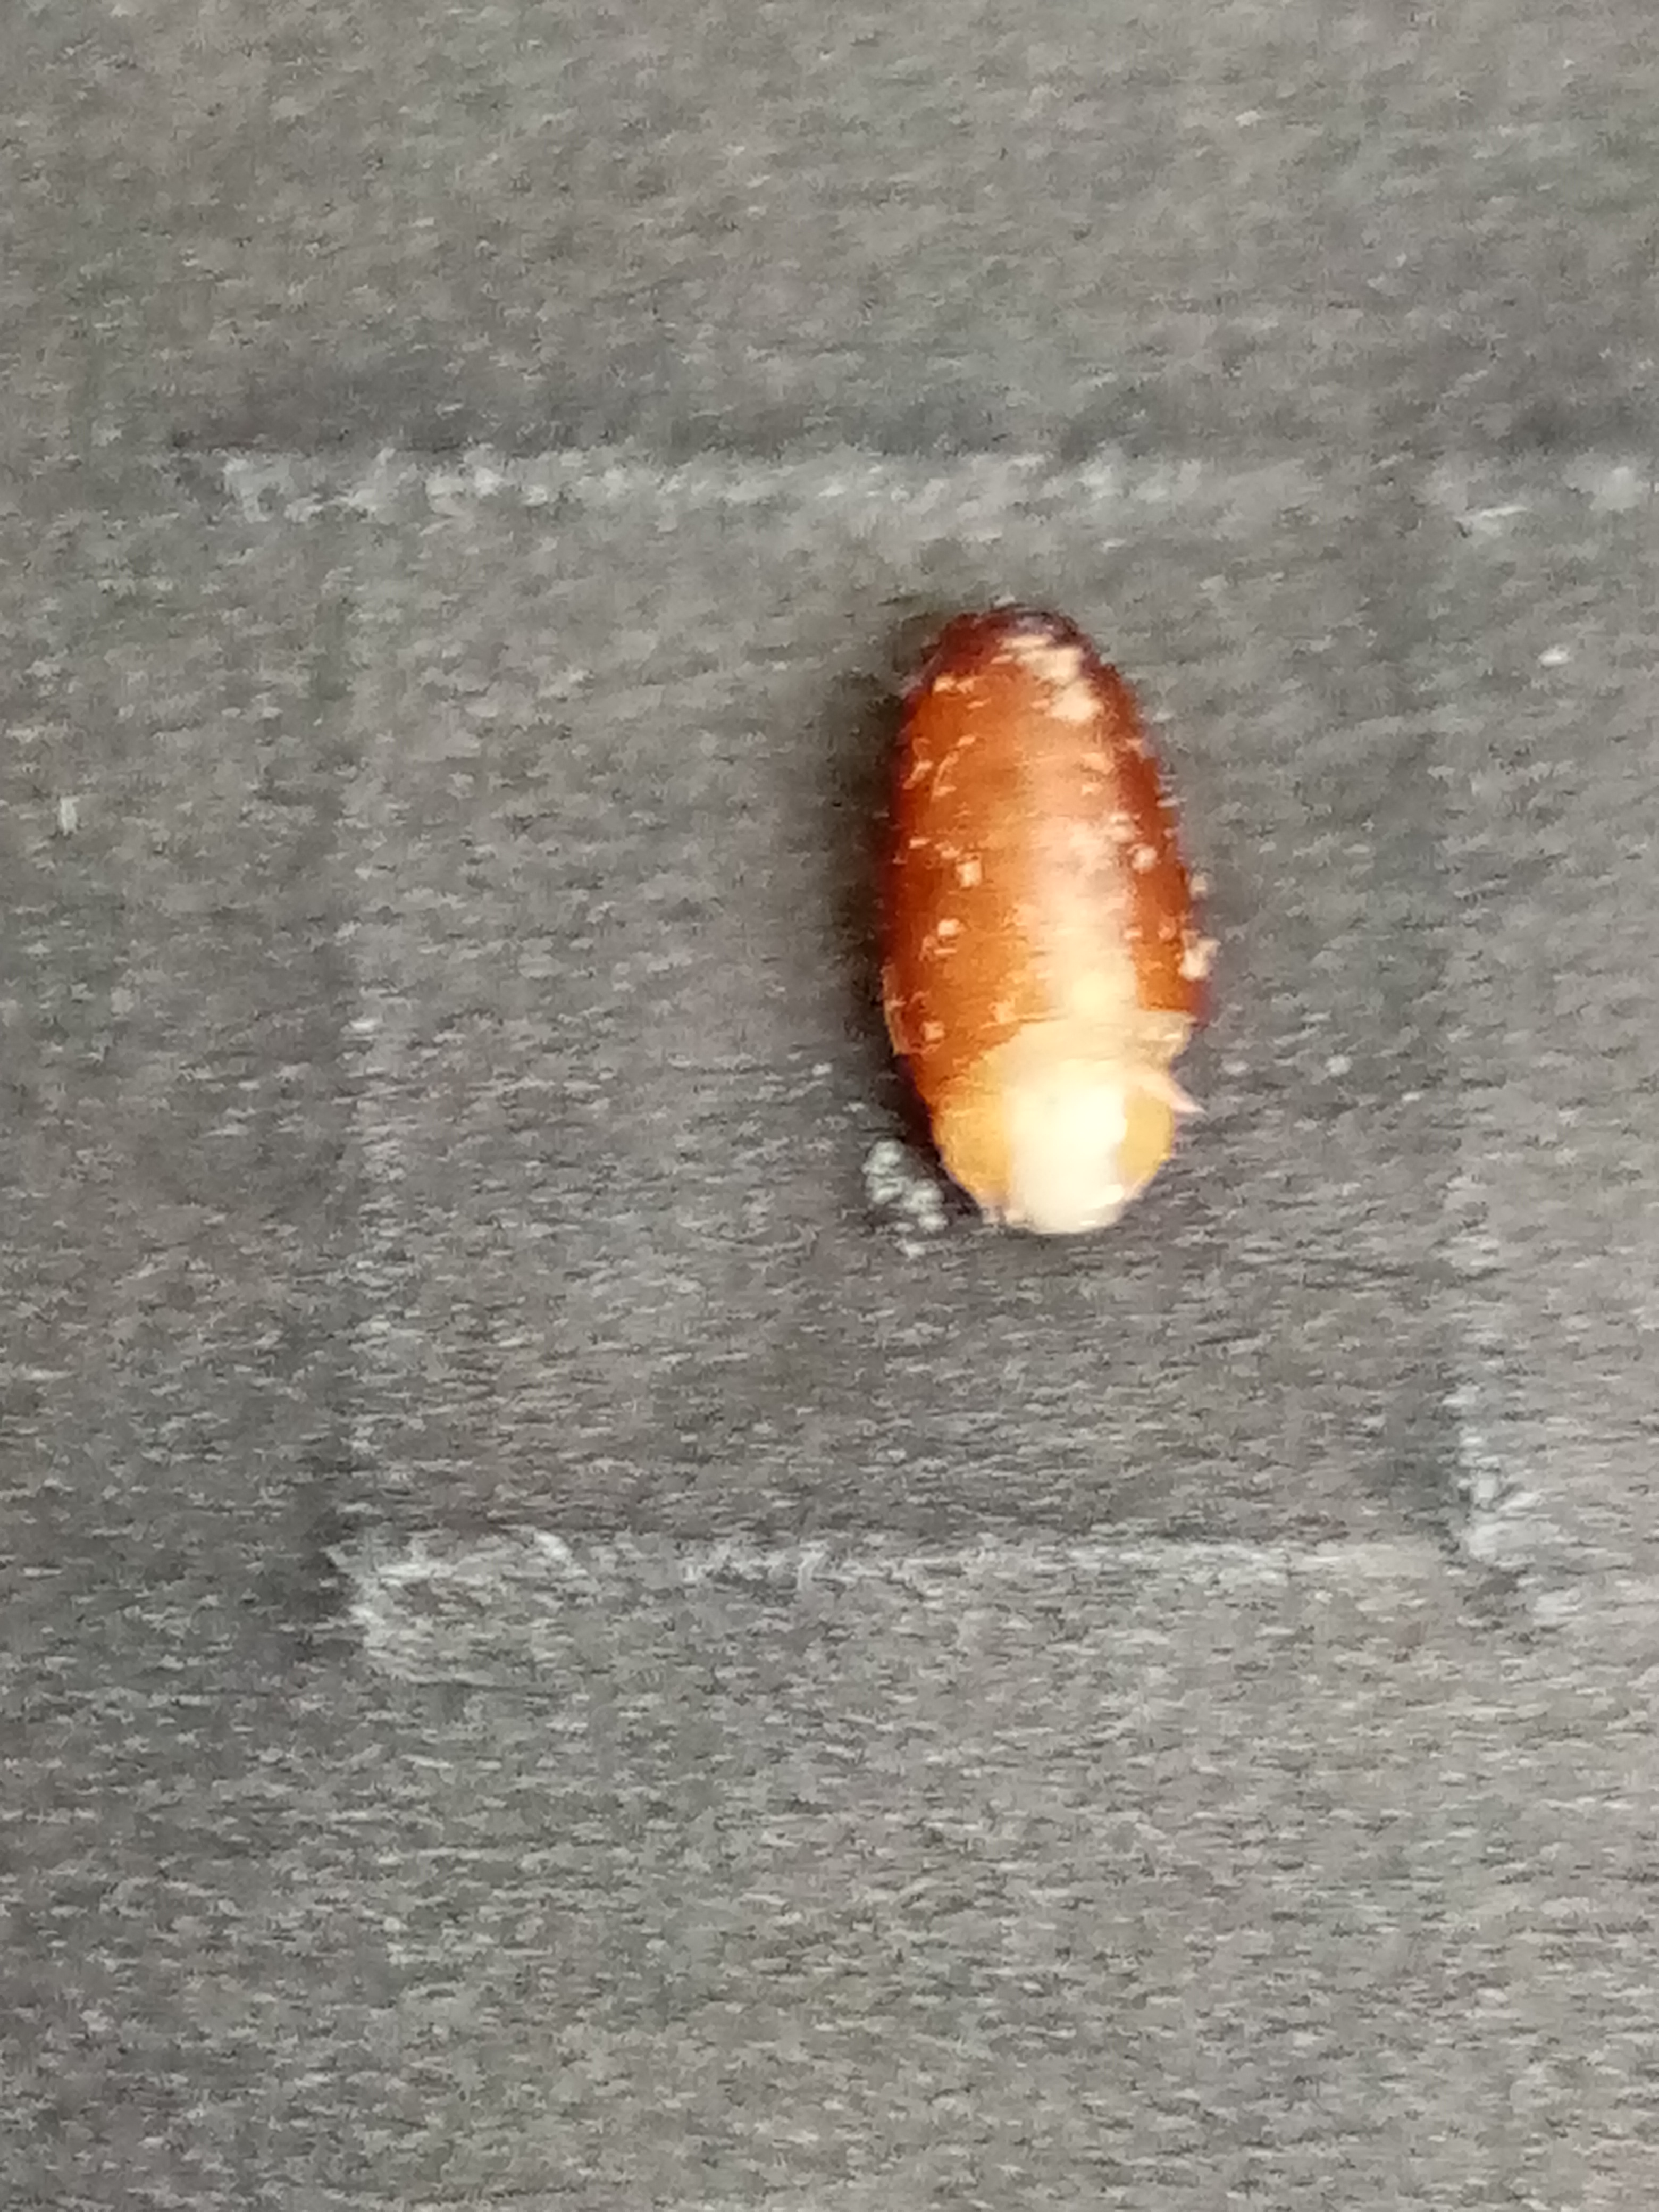pupa: (911, 1055, 1201, 1230)
